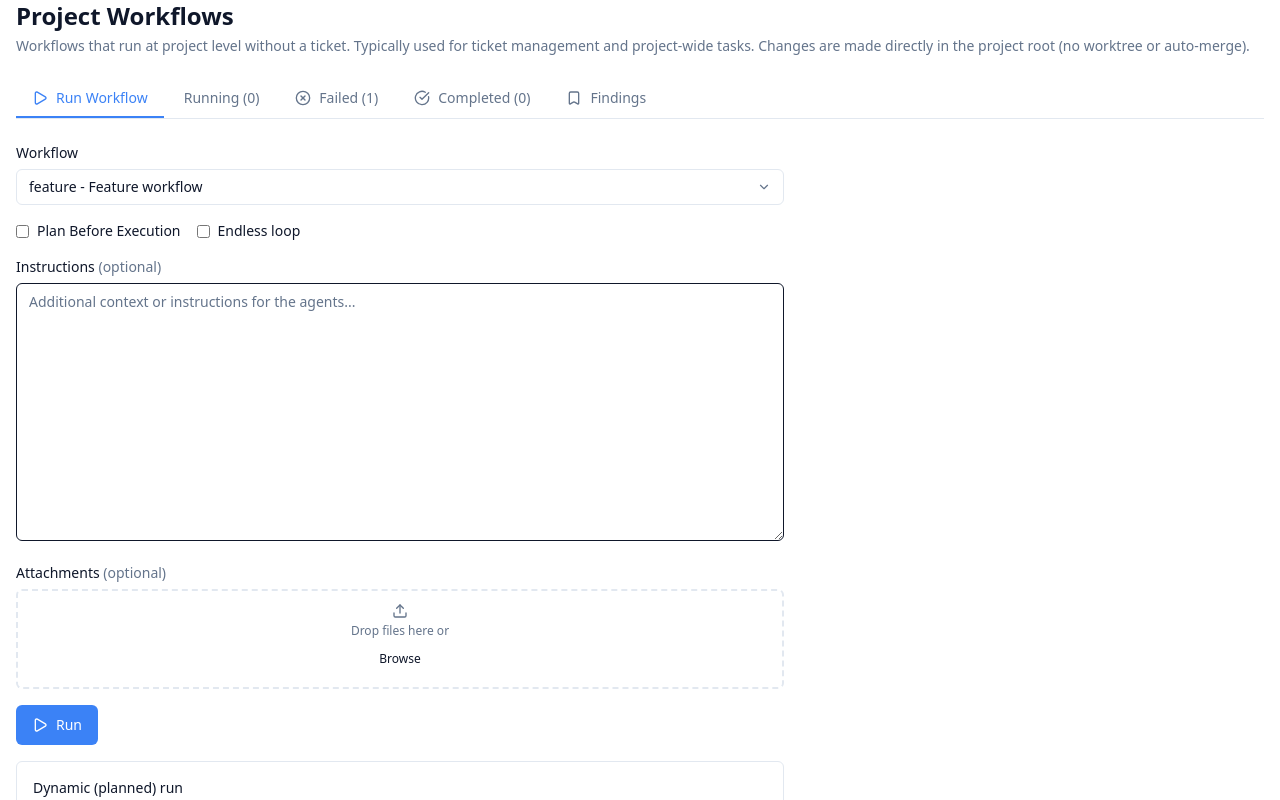
ProjectWorkflowsPage — Failed tab and delete › Delete confirmation flow › opens ConfirmDialog with correct title when trash icon is clicked on failed instance
This screenshot has width=1280, height=800.
Click the button "Failed (1)" at (337, 99), box [279,80,394,118]
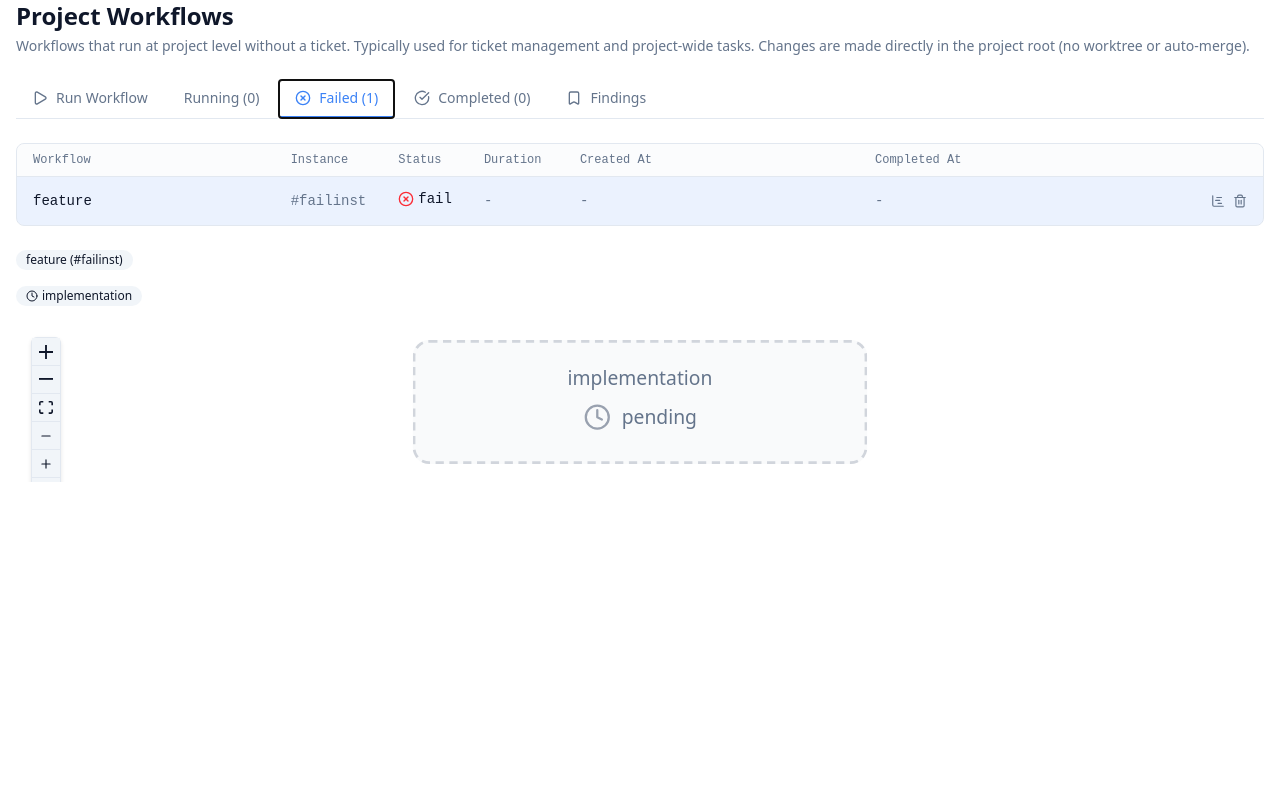
Click the button named "Delete instance" at (1240, 201), box [1233,194,1247,208]
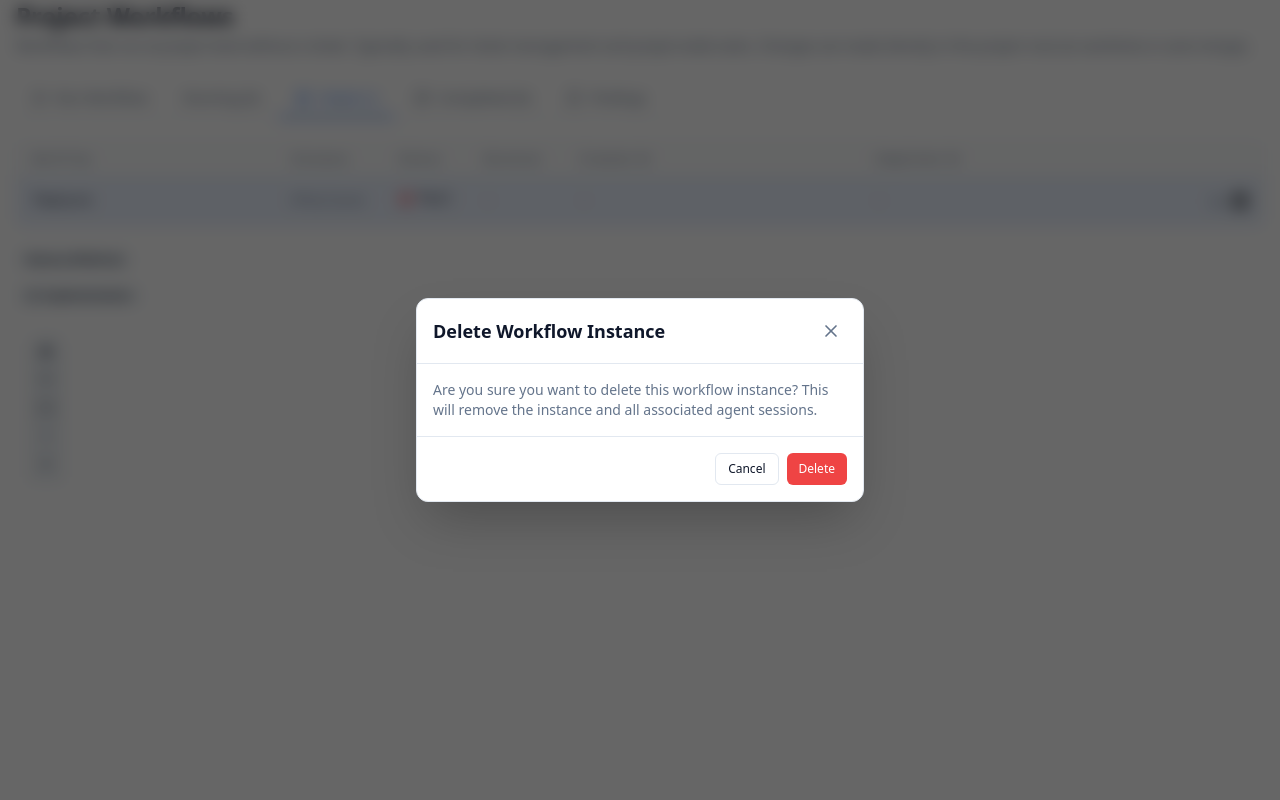
Expected: the heading "Delete Workflow Instance" is shown, [433,319,665,343]
Expected: the text "Are you sure you want to delete this workflow instance" is shown, [433,380,828,419]
